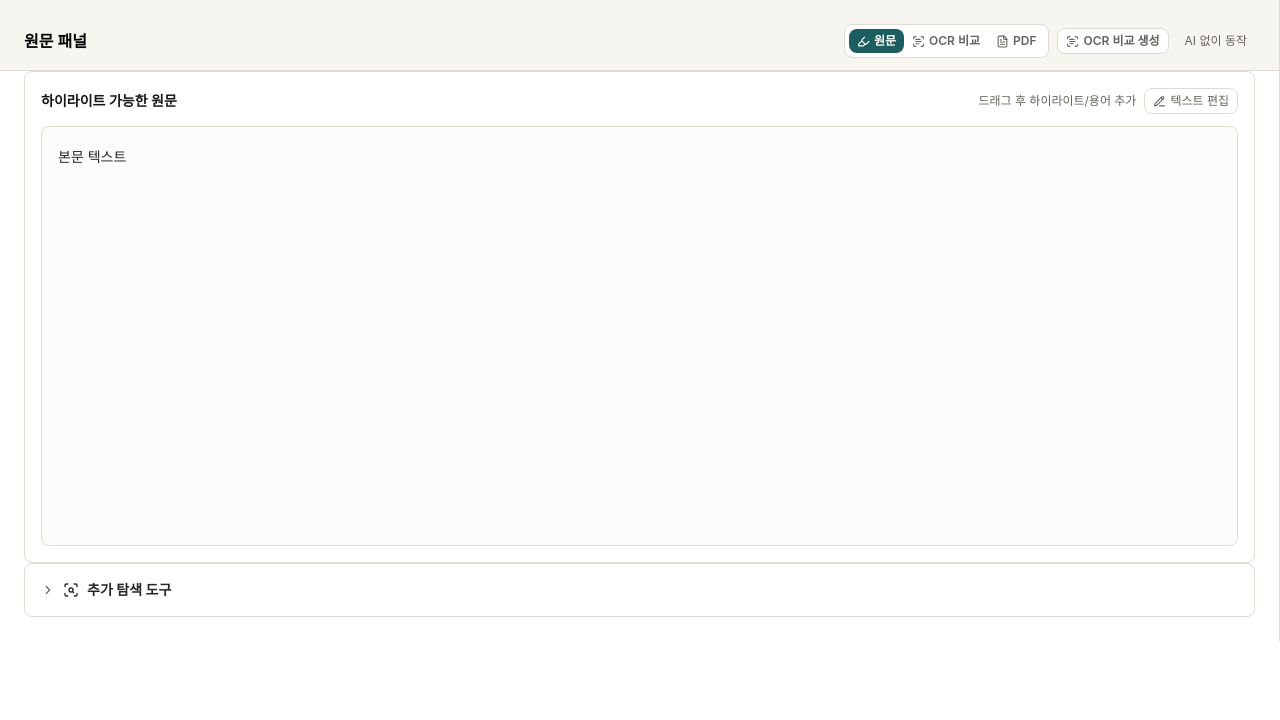
it: SourcePanel OCR action › blocks applying an OCR candidate that fails structural checks
Click the button "OCR 비교": x=946, y=41 [904,29,988,53]
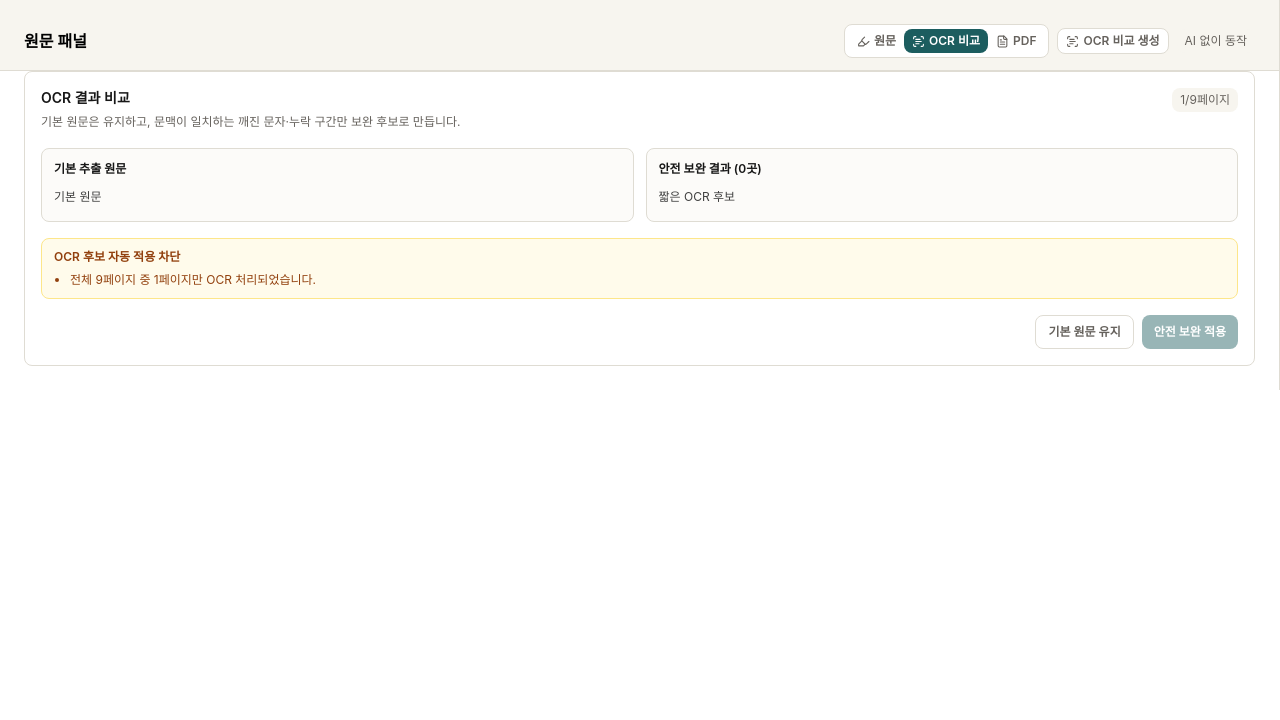
Check: the text "OCR 후보 자동 적용 차단" is shown, box [54,248,180,264]
Check: the button "안전 보완 적용" is disabled, box [1142,314,1238,348]
